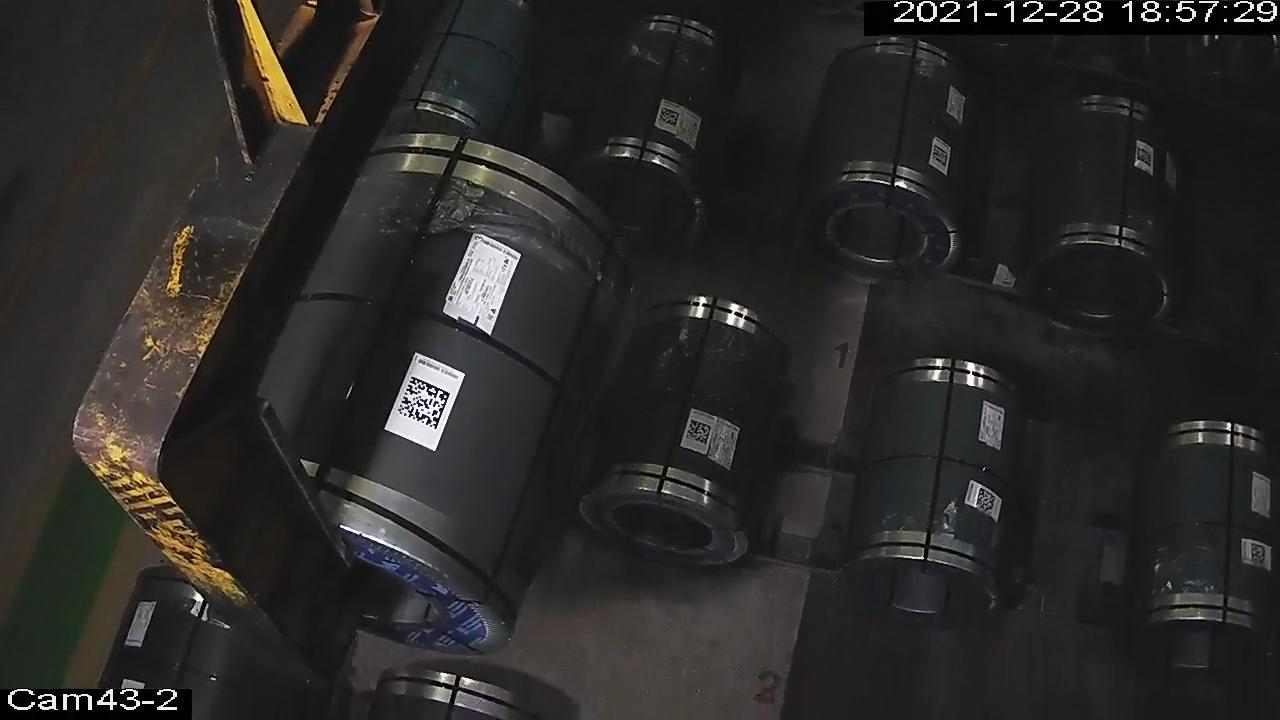data matrix: (395, 374, 453, 433), (686, 418, 713, 447), (656, 106, 682, 132), (975, 487, 998, 516), (1250, 543, 1270, 569), (931, 144, 951, 169), (1135, 145, 1155, 170)
